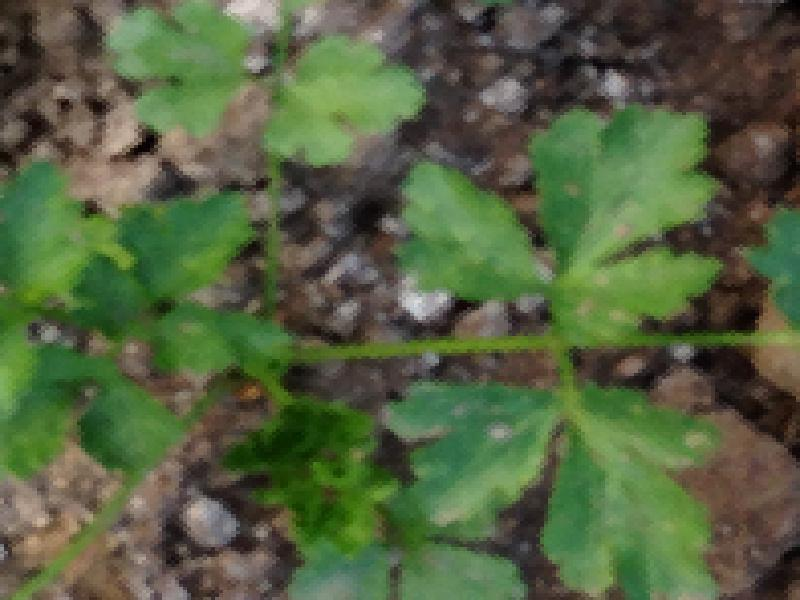radish: (13, 15, 751, 552)
